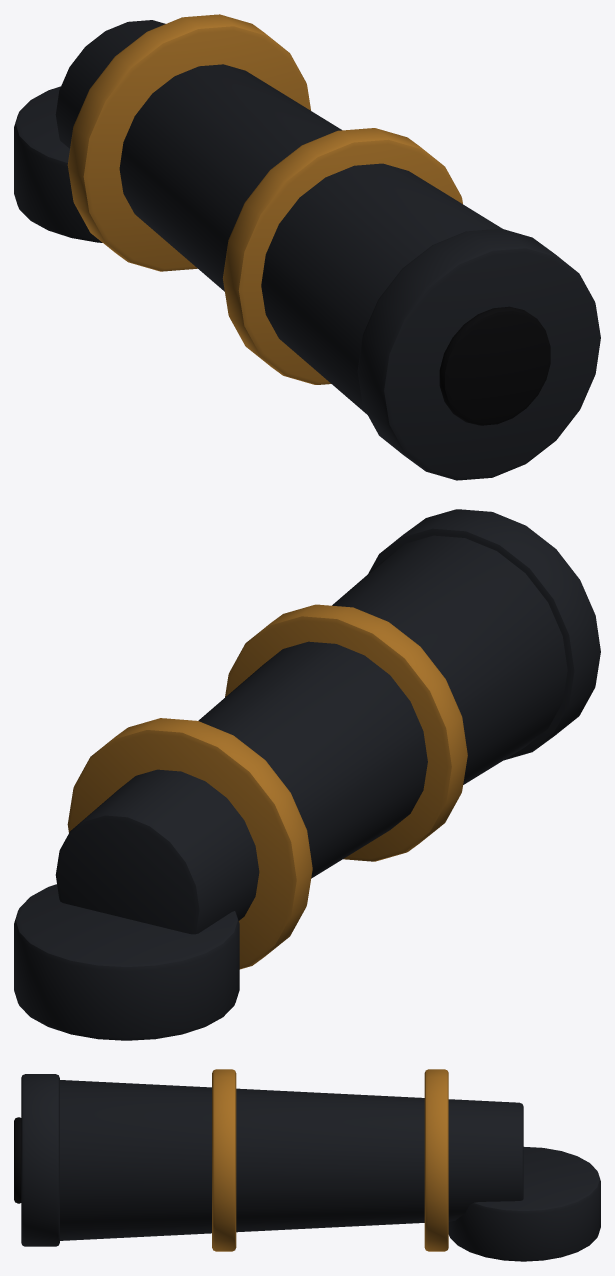
File: CannonBarrel.obj
3 renders of one model, top to bottom at view 1: azimuth 30°, elevation 25°; view 2: azimuth 150°, elevation 25°; view 3: azimuth 270°, elevation 25°, orthographic. The views are drawn at different scales.
Visible parts, largest first — view 1: CannonBarrel; view 2: CannonBarrel; view 3: CannonBarrel.
Part boxes in pixels (bbox=[...]): CannonBarrel: bbox=[14, 14, 600, 480]; CannonBarrel: bbox=[14, 509, 600, 1040]; CannonBarrel: bbox=[14, 1069, 600, 1261].
Bounding box in the file's own units: 0.38 × 0.38 × 1.21.
